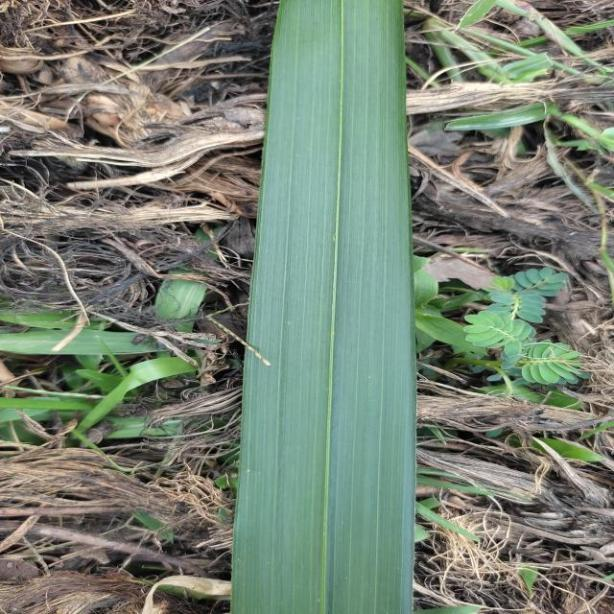Healthy: (235, 0, 416, 614)
